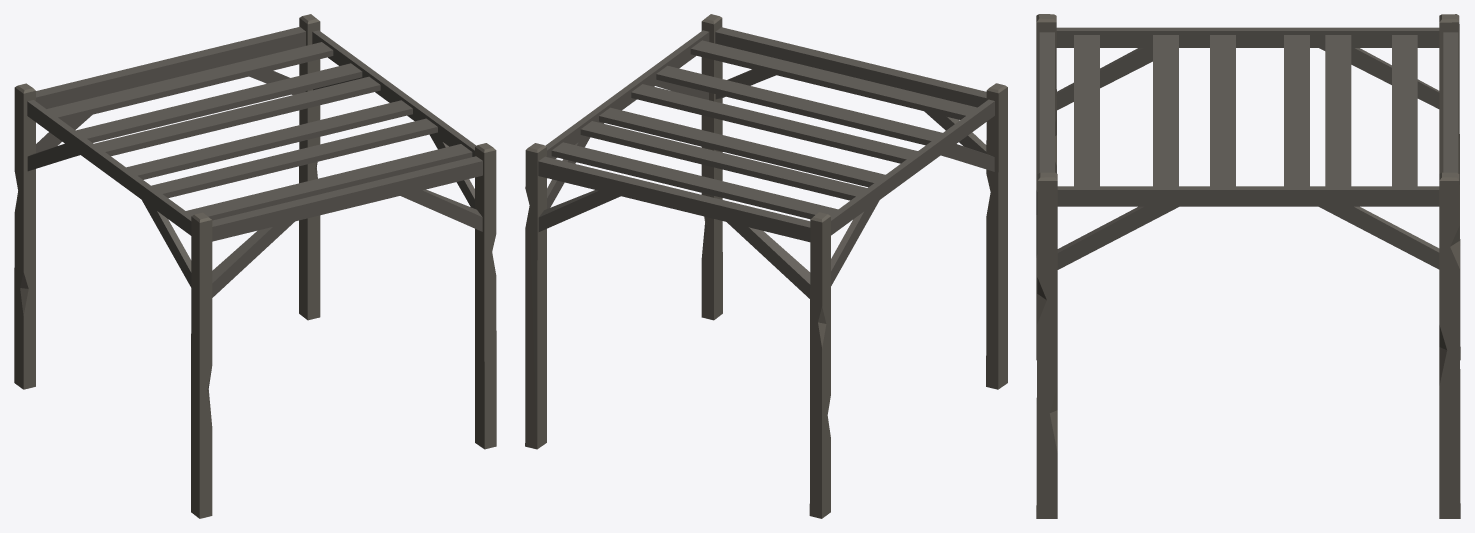
File: SM_Bld_Village_Cover_01.glb
3 views of the same model, side by side, from view 1: azimuth 30°, elevation 25°; view 2: azimuth 150°, elevation 25°; view 3: azimuth 270°, elevation 25° (orthographic). The views are drawn at different scales.
Parts seen in each view (by area): view 1: SM_Bld_Village_Cover_01; view 2: SM_Bld_Village_Cover_01; view 3: SM_Bld_Village_Cover_01.
Boxes of the visible parts, left/top/right/bottom form: SM_Bld_Village_Cover_01: left=14, top=14, right=496, bottom=518; SM_Bld_Village_Cover_01: left=525, top=14, right=1007, bottom=518; SM_Bld_Village_Cover_01: left=1036, top=14, right=1460, bottom=518.
Size of the model in its own units: 4.17 by 4 by 4.52.
Materials: 1 (1 with a texture image).
